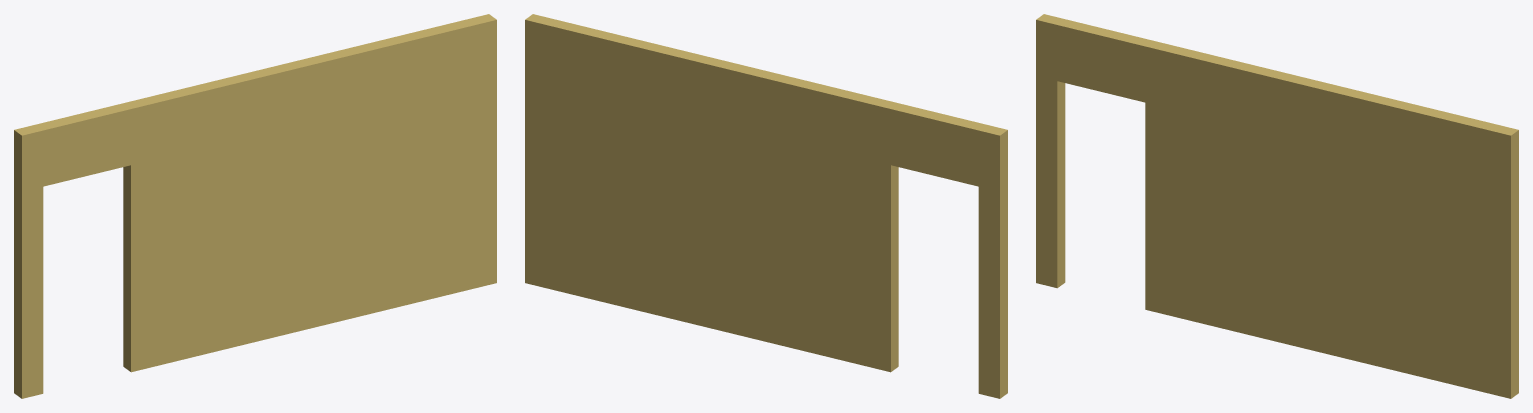
File: Wall 3.FBX
3 views of the same model, side by side, from view 1: azimuth 30°, elevation 25°; view 2: azimuth 150°, elevation 25°; view 3: azimuth 330°, elevation 25° (orthographic).
Visible parts, largest first — view 1: Wall 3; view 2: Wall 3; view 3: Wall 3.
Boxes of the visible parts, x1,y1,x2,y2 form: Wall 3: (14,14,496,398); Wall 3: (525,14,1007,398); Wall 3: (1036,14,1518,398).
Size of the model in its own units: 514 by 272 by 14.87.
1 material, 1 textured.
